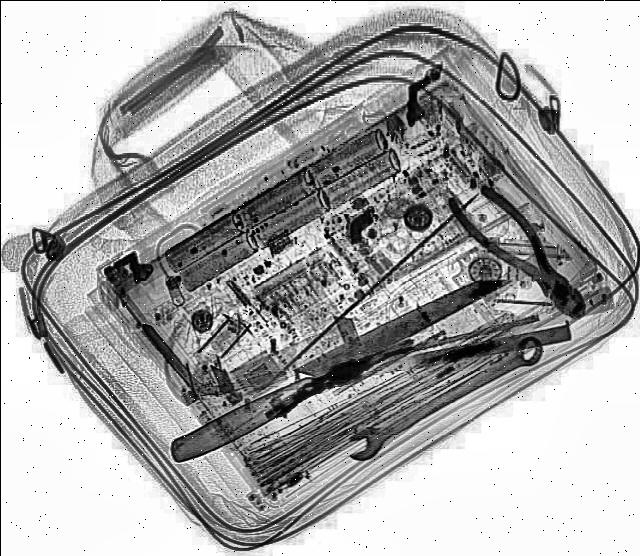Knife: (154, 266, 524, 466)
Pliers: (440, 173, 606, 326)
Wrench: (338, 329, 554, 463)
